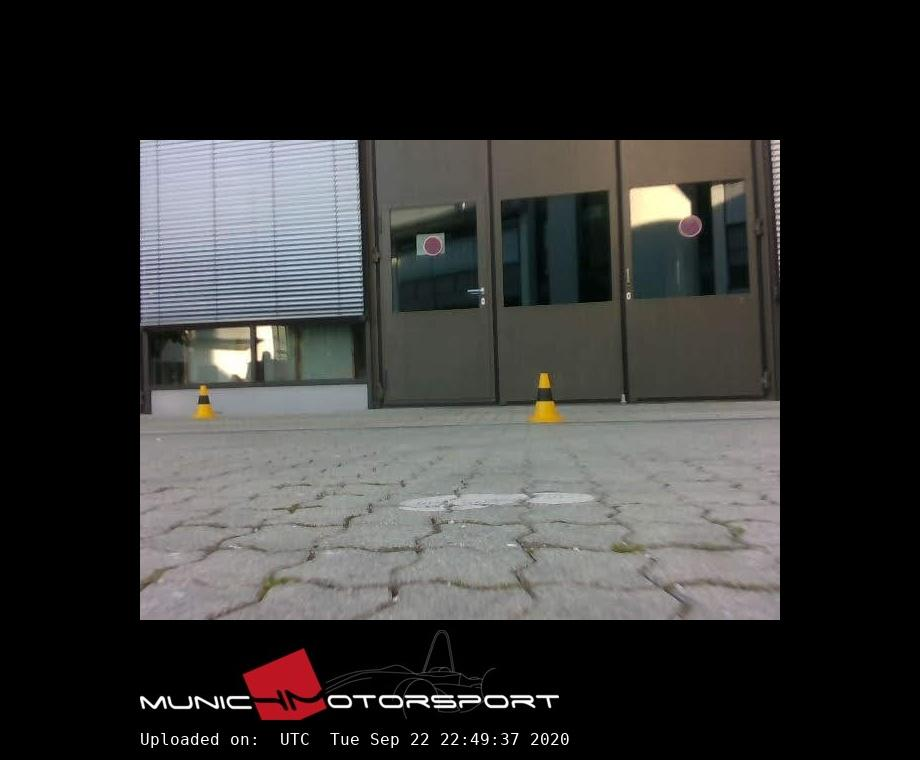yellow_cone: (526, 374, 565, 423), (191, 386, 217, 419)
